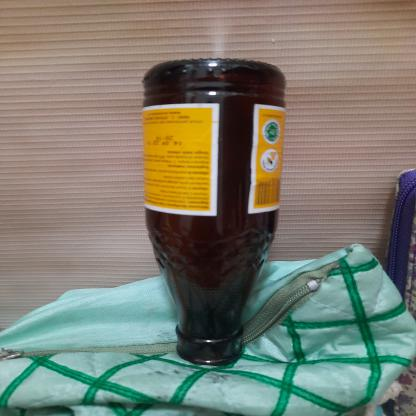bottle: (136, 55, 294, 368)
